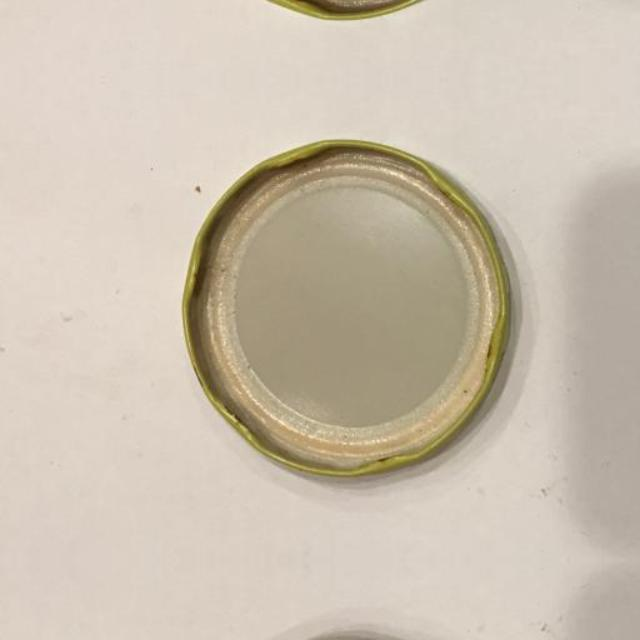Metal: (178, 124, 542, 498), (177, 0, 542, 36), (177, 622, 542, 640)
